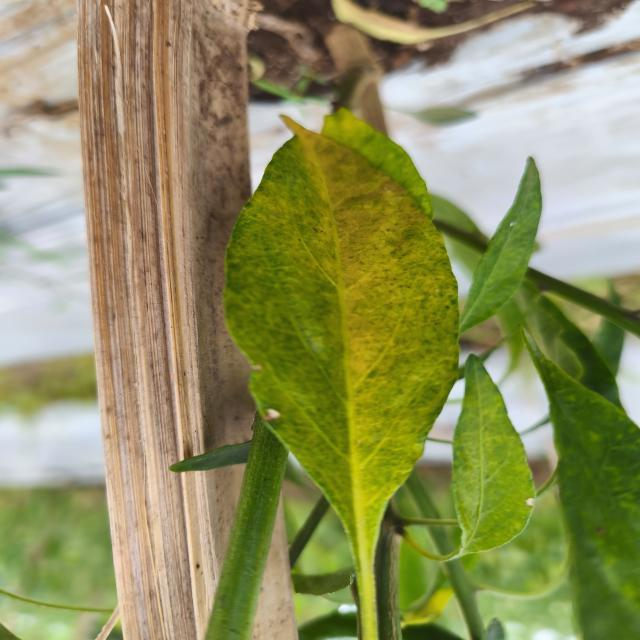Virus Kuning: (221, 107, 462, 537), (448, 353, 536, 555)
